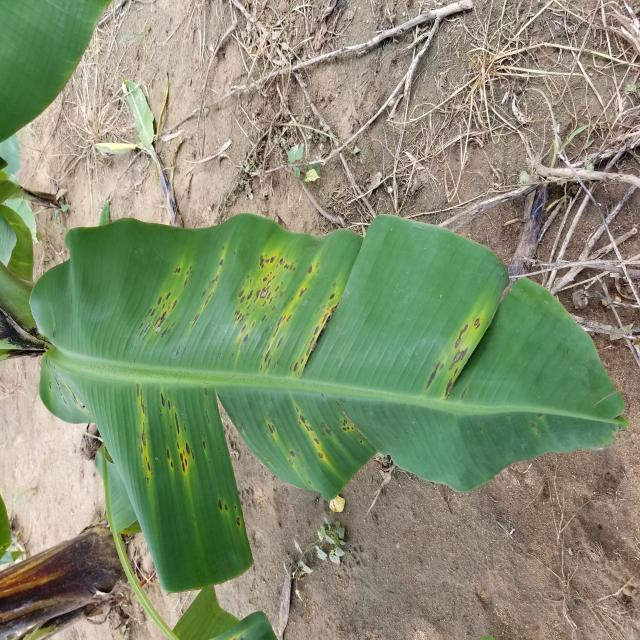Early_rust: (90, 219, 527, 541)
